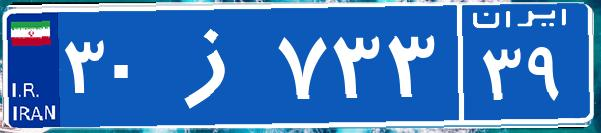0: (110, 28, 158, 105)
3: (385, 28, 445, 110), (330, 28, 385, 110), (57, 26, 110, 107), (475, 38, 525, 113)
7: (273, 28, 330, 110)
9: (525, 38, 570, 115)
ز: (158, 15, 273, 115)
